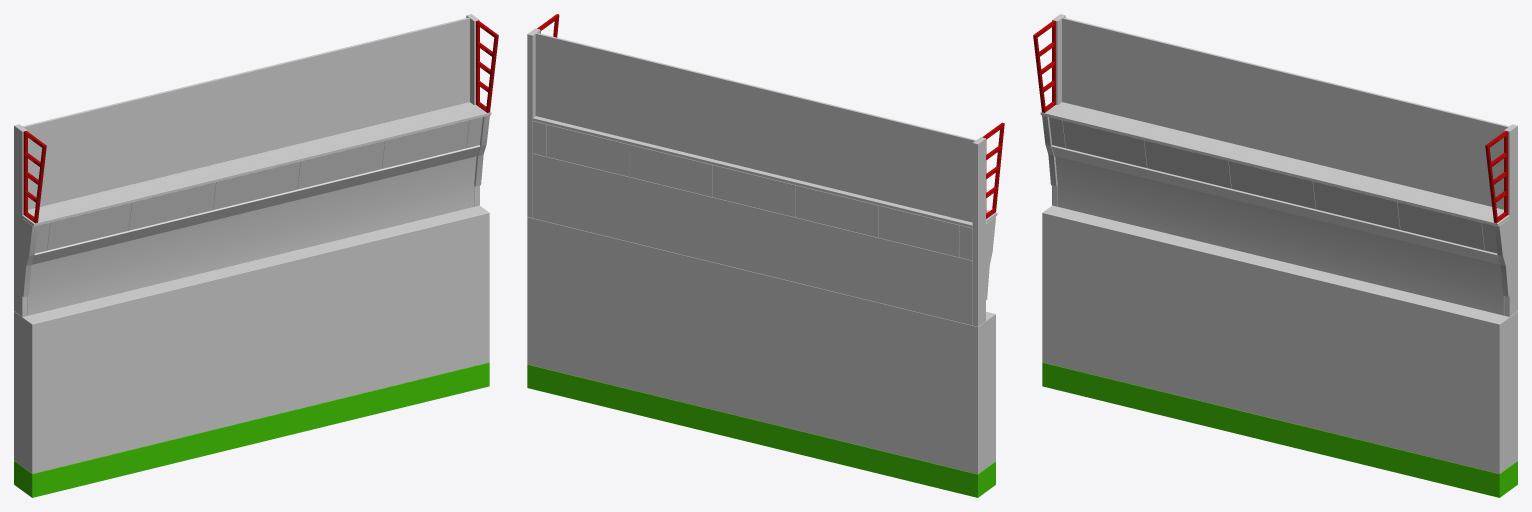
File: WallBench01.fbx
The picture shows the model from 3 angles, left to right: view 1: azimuth 30°, elevation 25°; view 2: azimuth 150°, elevation 25°; view 3: azimuth 330°, elevation 25°; orthographic projection.
Visible parts, largest first — view 1: WallBench01; view 2: WallBench01; view 3: WallBench01.
Boxes of the visible parts, x1,y1,x2,y2 form: WallBench01: (14, 14, 498, 497); WallBench01: (527, 14, 1004, 497); WallBench01: (1033, 14, 1517, 497).
Bounding box in the file's own units: 200 × 21.69 × 150.
